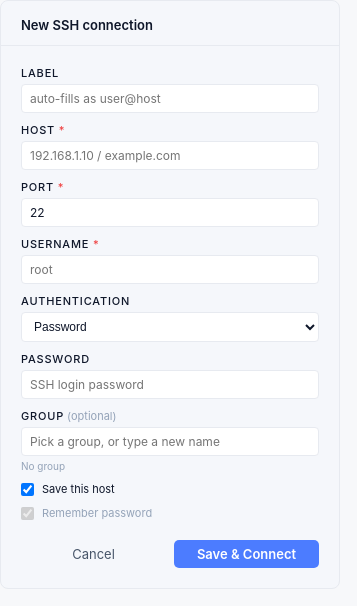
Test case: HostForm › create mode: unchecking Save this host changes button to 'Connect'
This screenshot has width=357, height=606.
Click the checkbox labelled "Save this host": (28, 489) top-left (21, 482), bottom-right (34, 496)
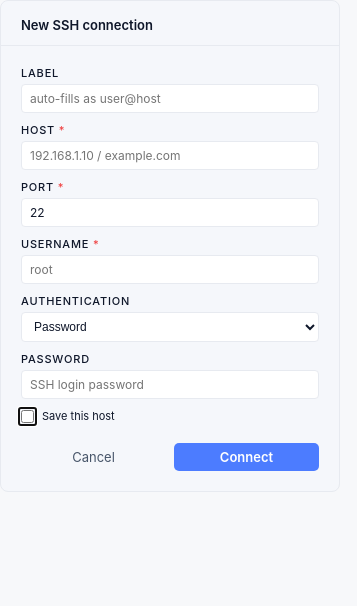
Expected: the button "Connect" is shown, top-left (174, 443), bottom-right (319, 471)
Expected: the button "Save & Connect" is gone
